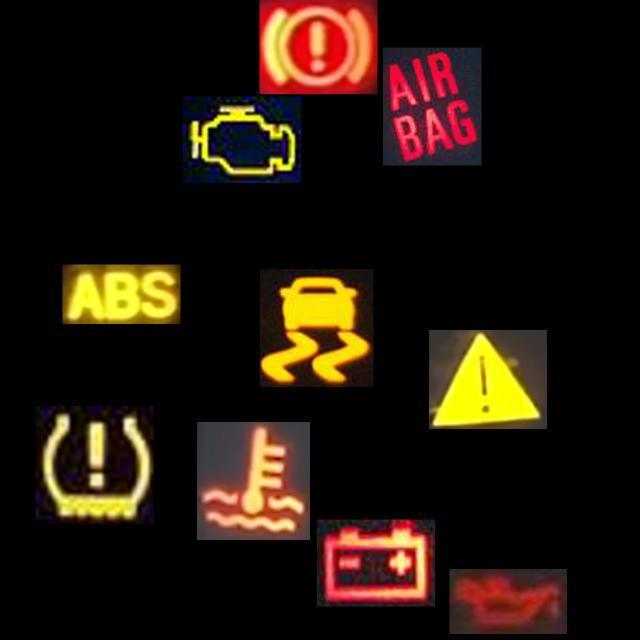Central Warning lamp: (429, 330, 547, 429)
Engine cooling system: (197, 422, 310, 540)
